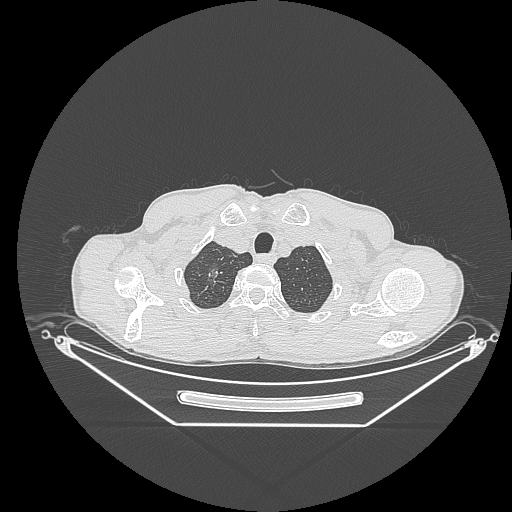nodule: (208, 267, 218, 278)
